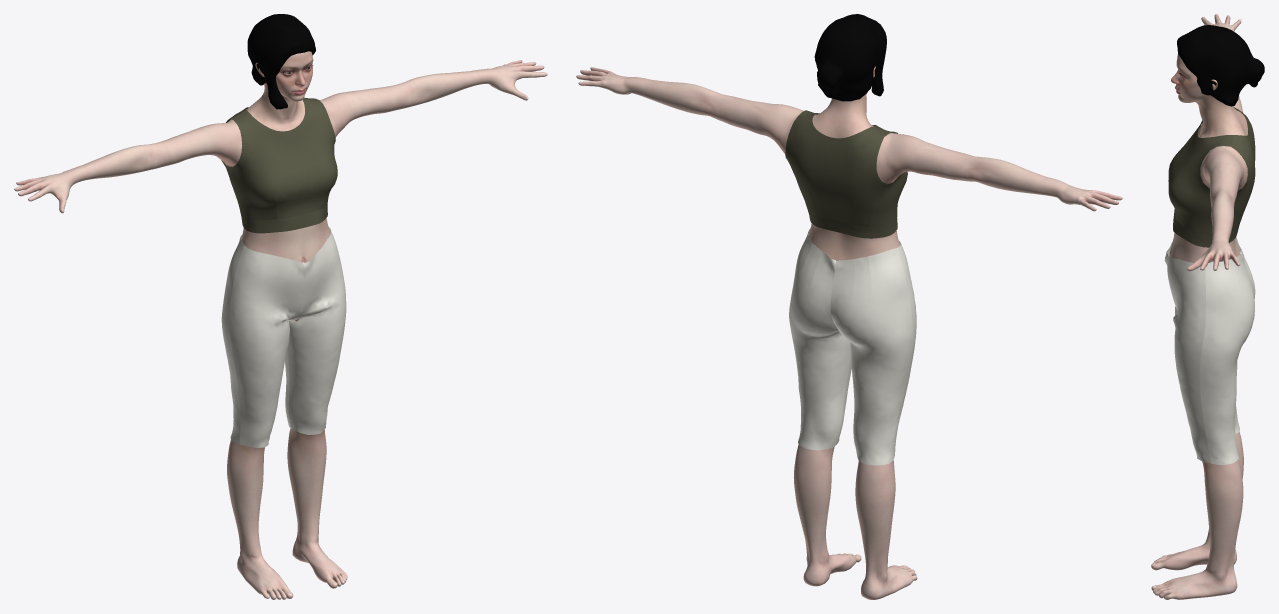
Rendered from Dramatic.obj.
3 views of the same model, side by side, from view 1: azimuth 30°, elevation 25°; view 2: azimuth 150°, elevation 25°; view 3: azimuth 270°, elevation 25° (orthographic). The views are drawn at different scales.
Bounding box in the file's own units: 1745 × 1762 × 329.
